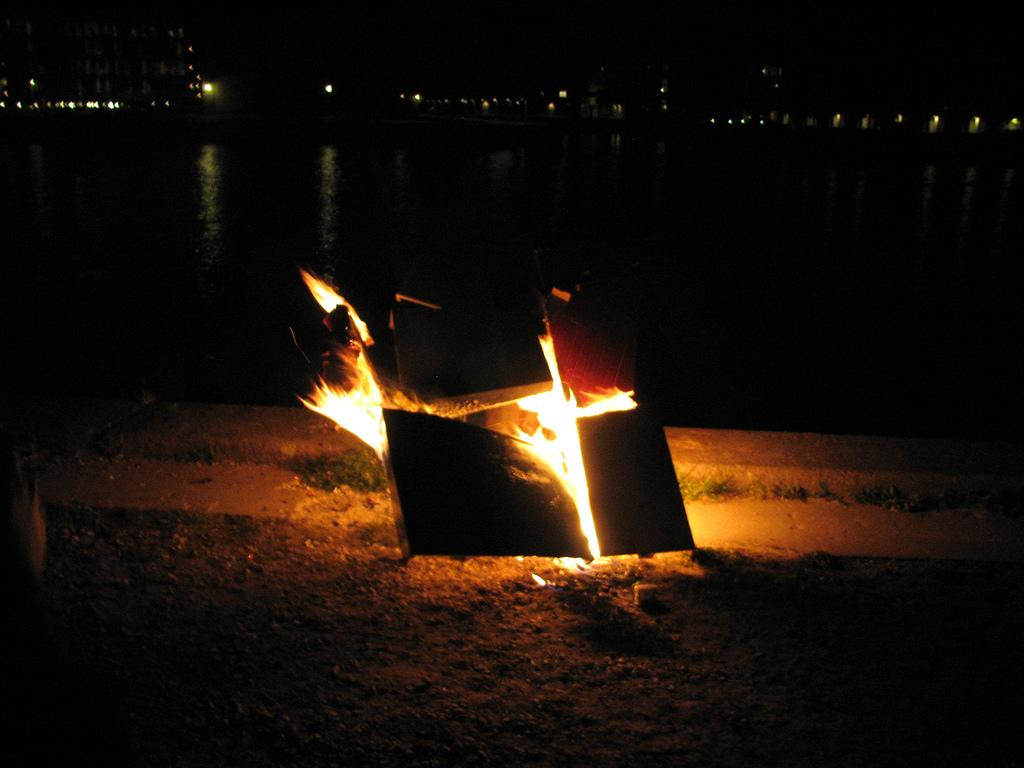fire: (528, 390, 590, 502), (318, 374, 376, 444)
